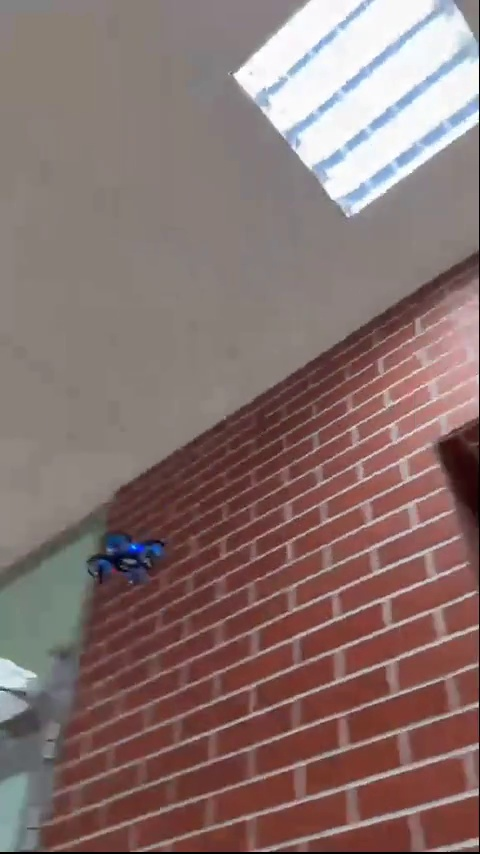drone: (86, 533, 165, 581)
